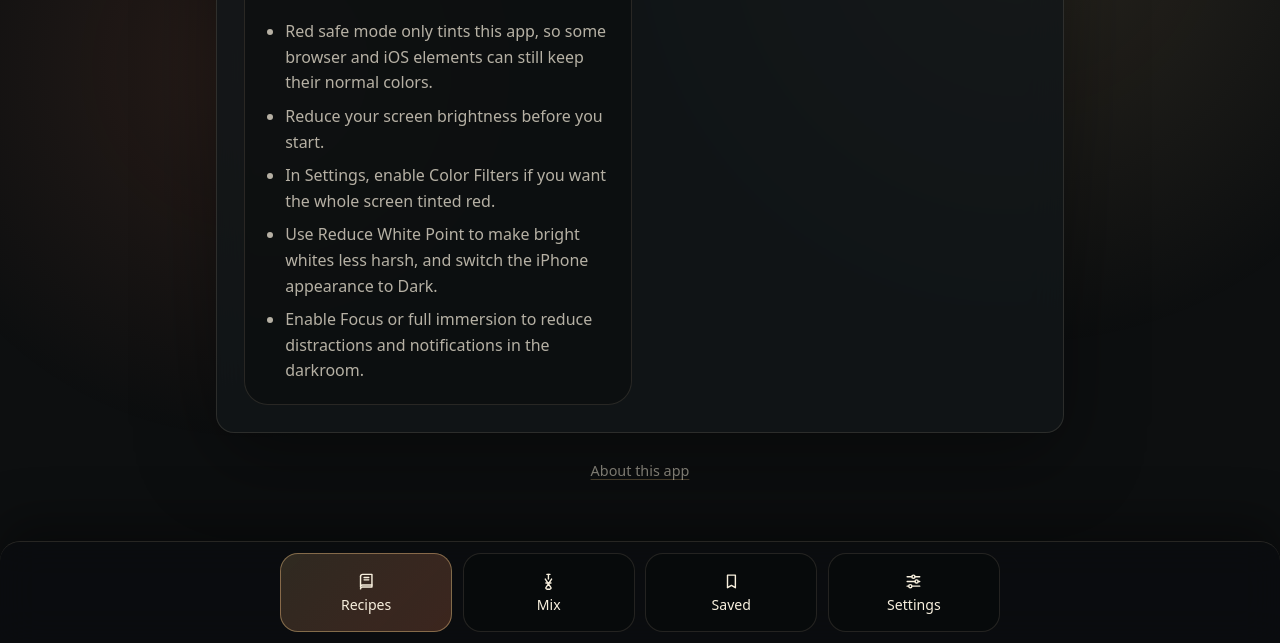
Scenario: App › opens the About screen from the page footer link and shows the creator note
(page scrolled)
What coordinates should you click on to do the following:
click the button "About this app"
I would click on:
 (640, 471)
Its box is [591,461,689,481].
(page scrolled)
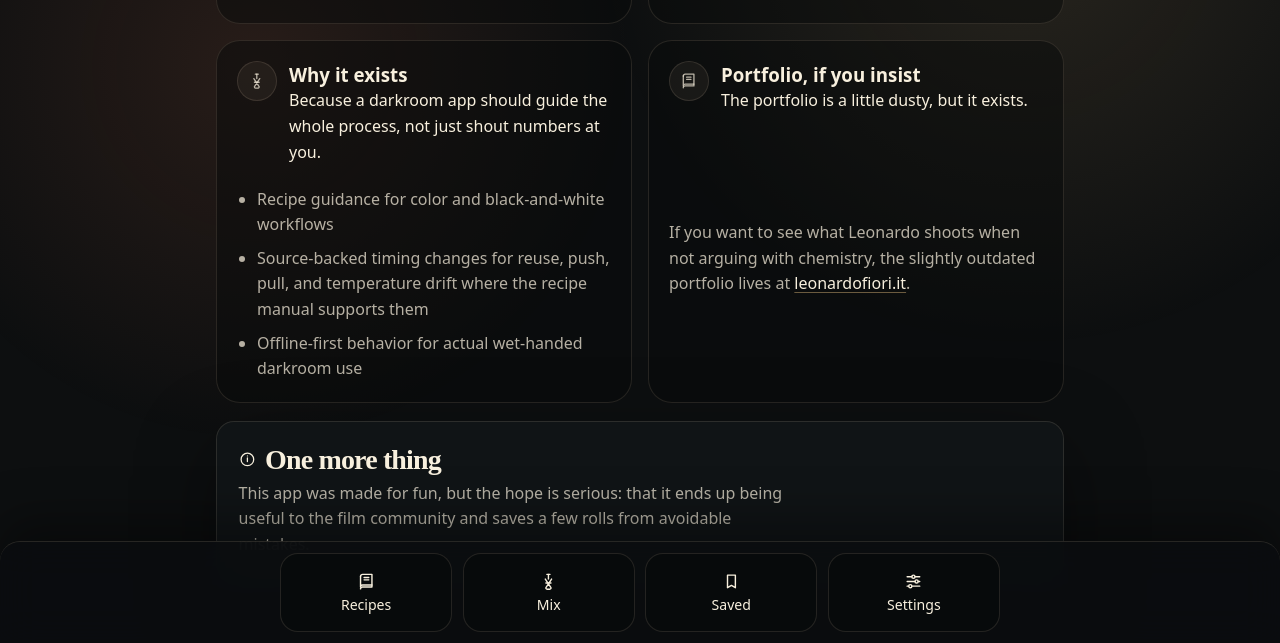
Expected: the link "leonardofiori.it" is shown, [794,272,906,294]
